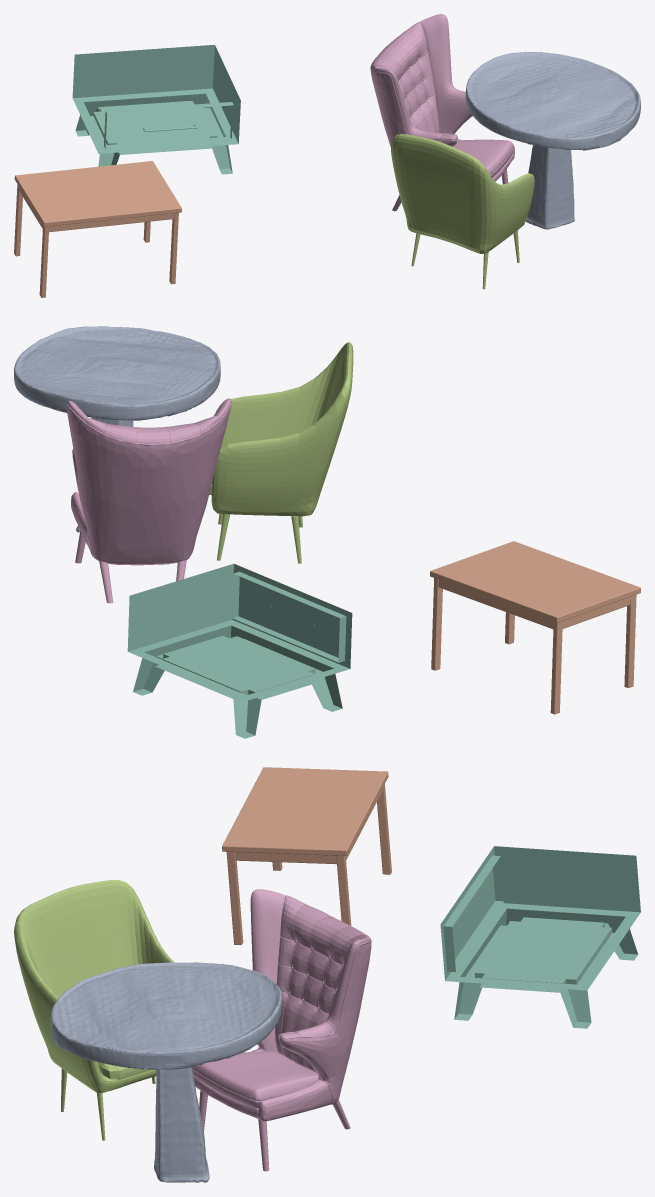
3 views of the same model, one above another, from view 1: azimuth 30°, elevation 25°; view 2: azimuth 150°, elevation 25°; view 3: azimuth 270°, elevation 25° (orthographic). The views are drawn at different scales.
Visible parts, largest first — view 1: target_0_2, target_0_0, target_0_4, target_0_3, target_0_1; view 2: target_0_0, target_0_3, target_0_4, target_0_2, target_0_1; view 3: target_0_0, target_0_2, target_0_3, target_0_4, target_0_1.
Part boxes in pixels (x1,y1,x2,y2): target_0_2: [465, 52, 640, 229]; target_0_0: [72, 44, 240, 174]; target_0_4: [391, 134, 534, 289]; target_0_3: [370, 14, 514, 211]; target_0_1: [14, 161, 181, 297]; target_0_0: [127, 563, 352, 738]; target_0_3: [66, 398, 232, 603]; target_0_4: [209, 342, 353, 563]; target_0_2: [14, 326, 220, 532]; target_0_1: [430, 541, 640, 714]; target_0_0: [440, 846, 640, 1028]; target_0_2: [50, 962, 281, 1182]; target_0_3: [192, 889, 371, 1171]; target_0_4: [14, 880, 174, 1140]; target_0_1: [222, 767, 391, 944].
Bounding box in the file's own units: 0.8056 × 0.2424 × 0.6358.
